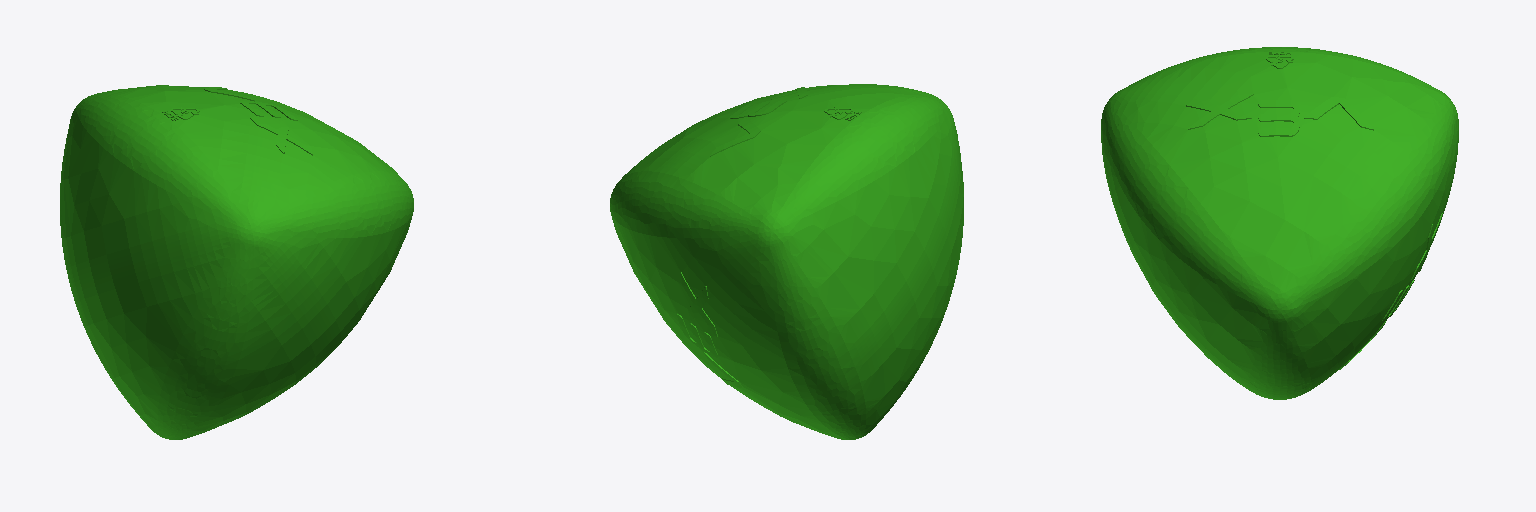
Rendered from nut.obj.
3 renders of one model, left to right at view 1: azimuth 30°, elevation 25°; view 2: azimuth 150°, elevation 25°; view 3: azimuth 270°, elevation 25°, orthographic.
Parts seen in each view (by area): view 1: node0; view 2: node0; view 3: node0.
Boxes of the visible parts, x1=… form: node0: x1=60, y1=85, x2=413, y2=439; node0: x1=610, y1=84, x2=963, y2=439; node0: x1=1101, y1=47, x2=1458, y2=399.
Size of the model in its own units: 0.1568 by 0.1578 by 0.1585.